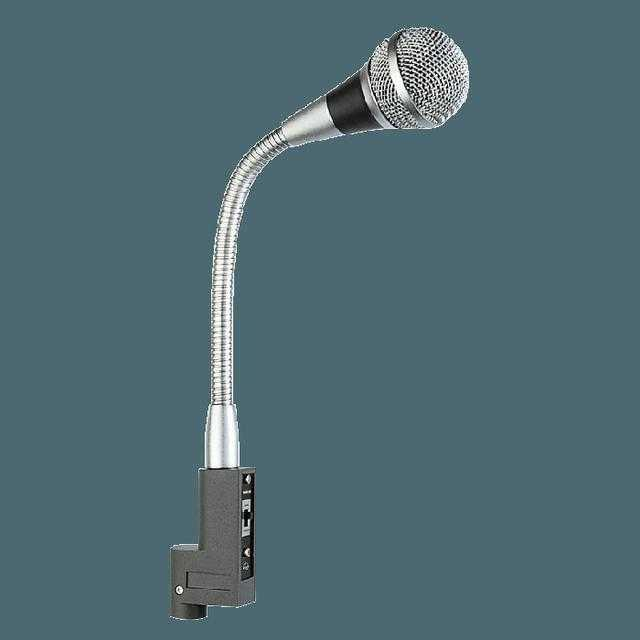microphone: (287, 23, 471, 151)
